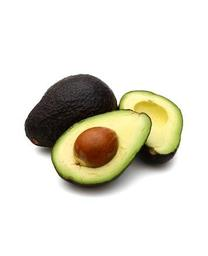avocado: (50, 108, 152, 188), (24, 73, 118, 149), (119, 90, 184, 166)
